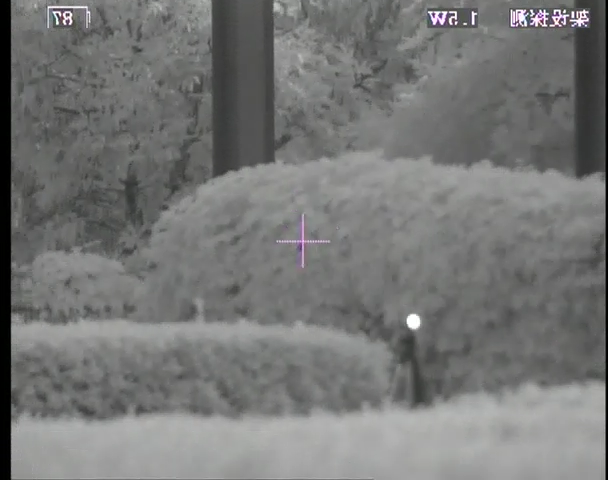my: (405, 313, 421, 330)
